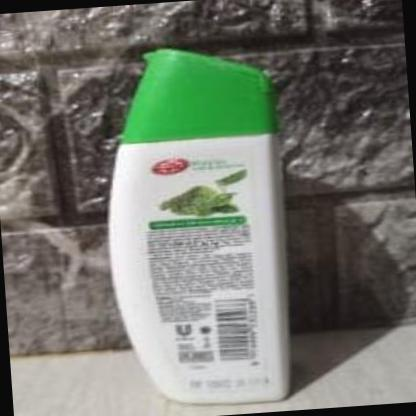objects: (94, 35, 298, 412)
